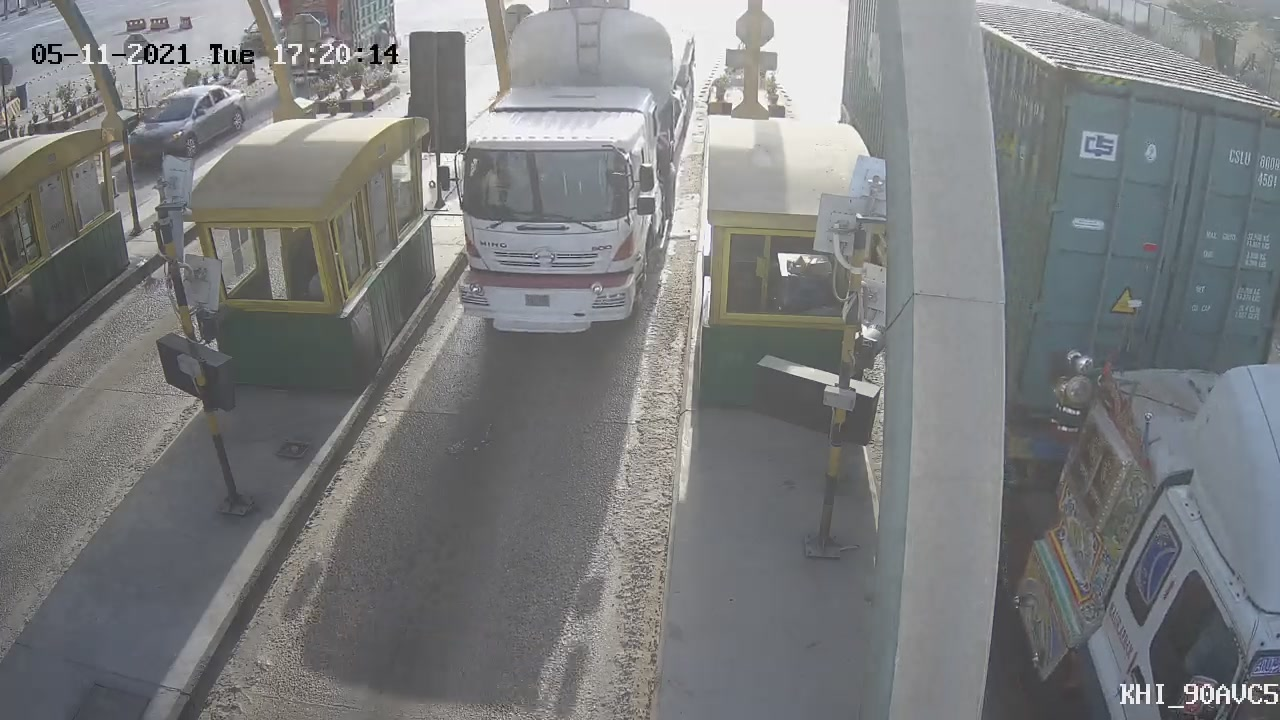F6: (424, 1, 712, 360)
